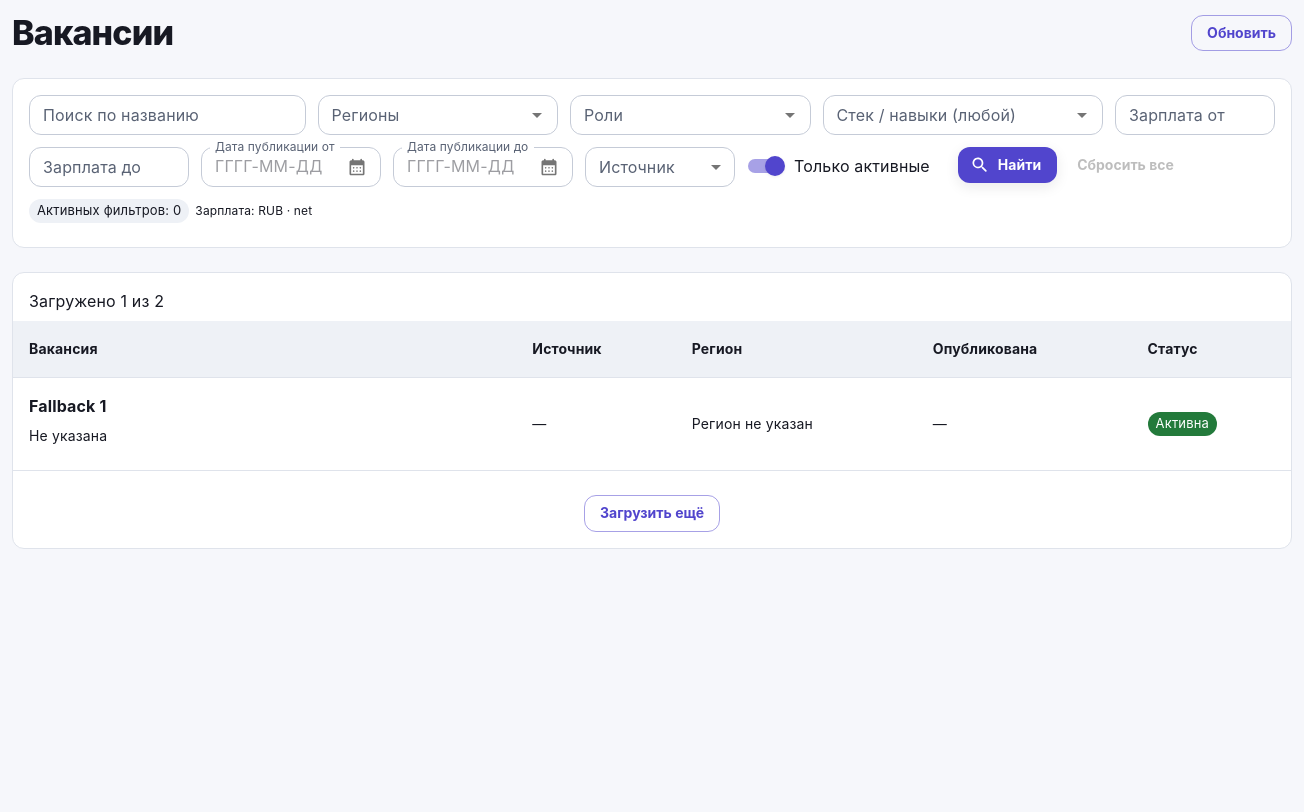
VacanciesPage › offers a load-more fallback without IntersectionObserver
Expected: the text "Fallback 1" is shown, [29, 394, 106, 418]
Click the button "Загрузить ещё" at (652, 513), box [584, 495, 720, 532]
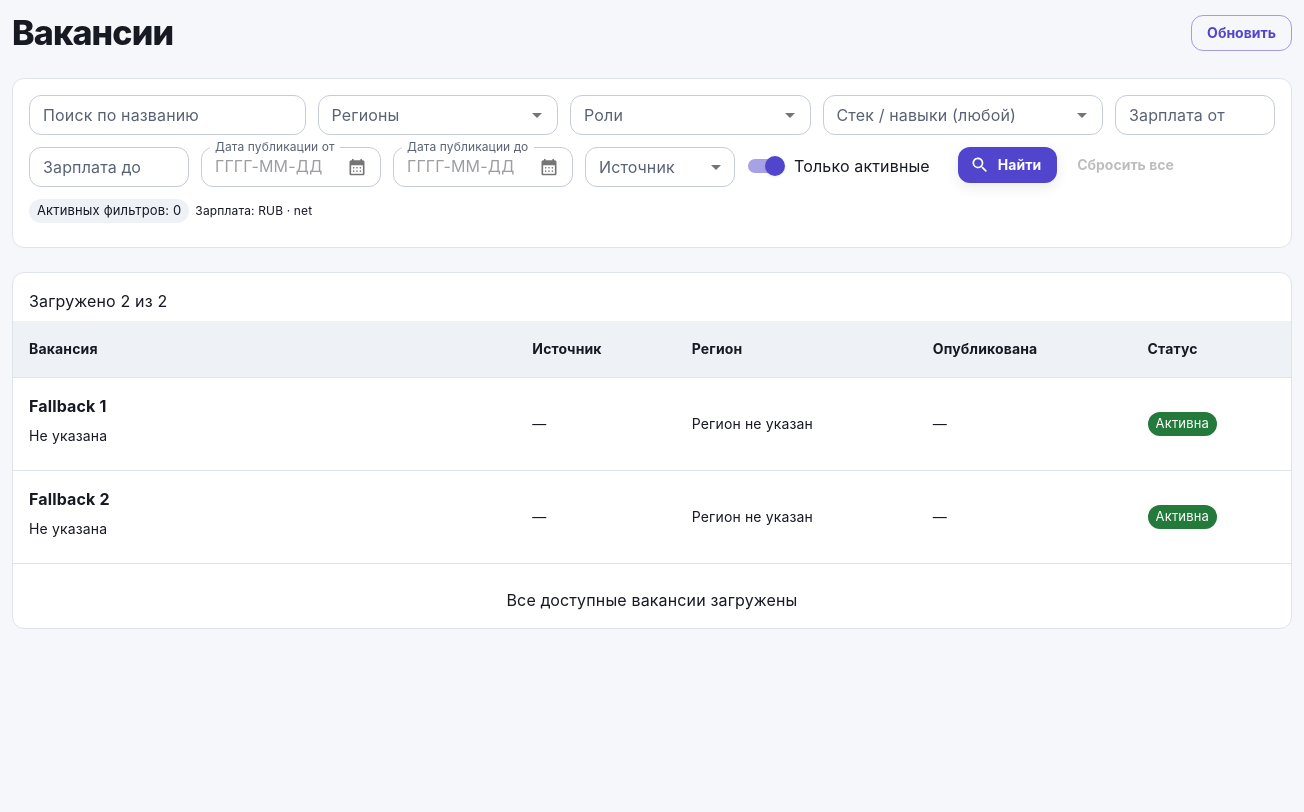
Now the text "Fallback 2" is shown, box [29, 487, 110, 511]
